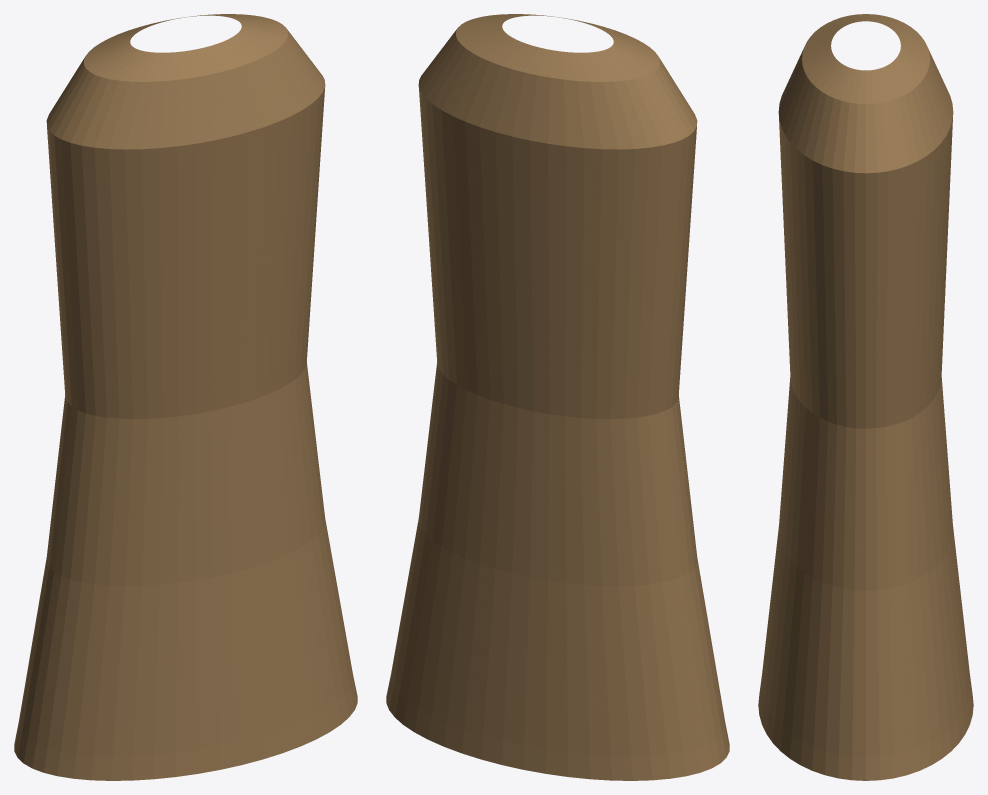
Rendered from garment-large-texture.glb.
3 renders of one model, left to right at view 1: azimuth 30°, elevation 25°; view 2: azimuth 150°, elevation 25°; view 3: azimuth 270°, elevation 25°, orthographic. The views are drawn at different scales.
Visible parts, largest first — view 1: tunic; view 2: tunic; view 3: tunic.
Part boxes in pixels (box(x1,y1,x2,y2)): tunic: box(14, 14, 357, 780); tunic: box(386, 14, 729, 780); tunic: box(758, 14, 973, 780).
Bounding box in the file's own units: 0.74 × 1.5 × 0.444.
Materials: 1 (1 with a texture image).
